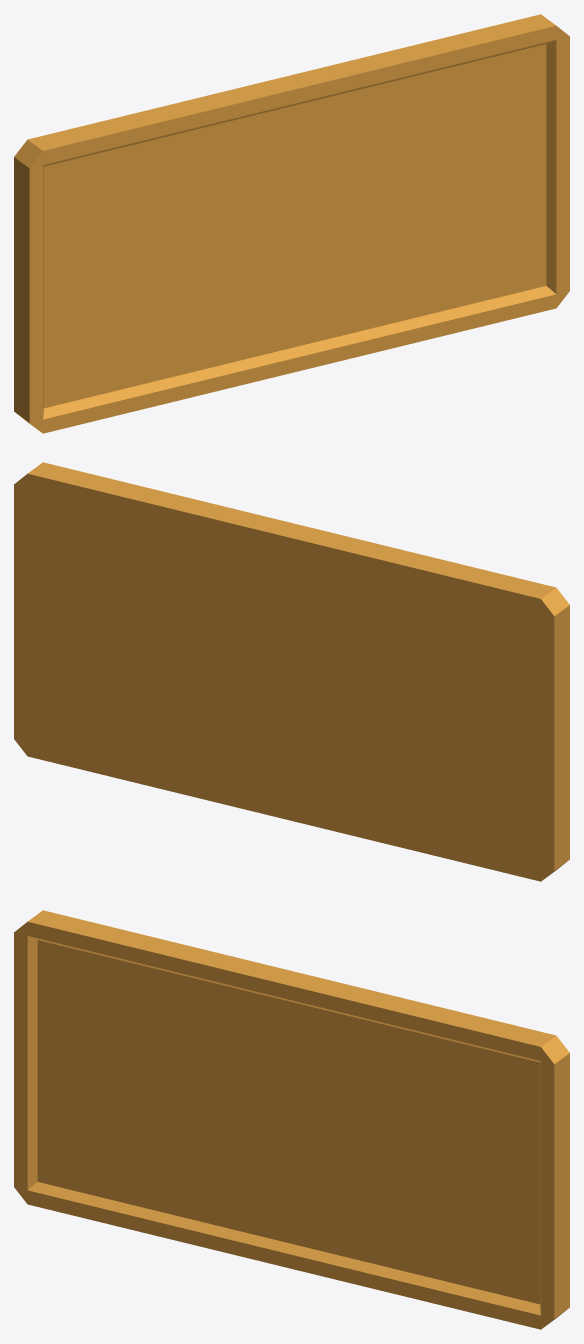
The model's file is scifi-scifi-neon-screen.glb.
3 renders of one model, top to bottom at view 1: azimuth 30°, elevation 25°; view 2: azimuth 150°, elevation 25°; view 3: azimuth 330°, elevation 25°, orthographic.
Parts seen in each view (by area): view 1: scifi-neon-screen; view 2: scifi-neon-screen; view 3: scifi-neon-screen.
Boxes of the visible parts, x1,y1,x2,y2 form: scifi-neon-screen: [14, 14, 569, 433]; scifi-neon-screen: [14, 462, 569, 881]; scifi-neon-screen: [14, 910, 569, 1329].
Size of the model in its own units: 2 by 1 by 0.1.
